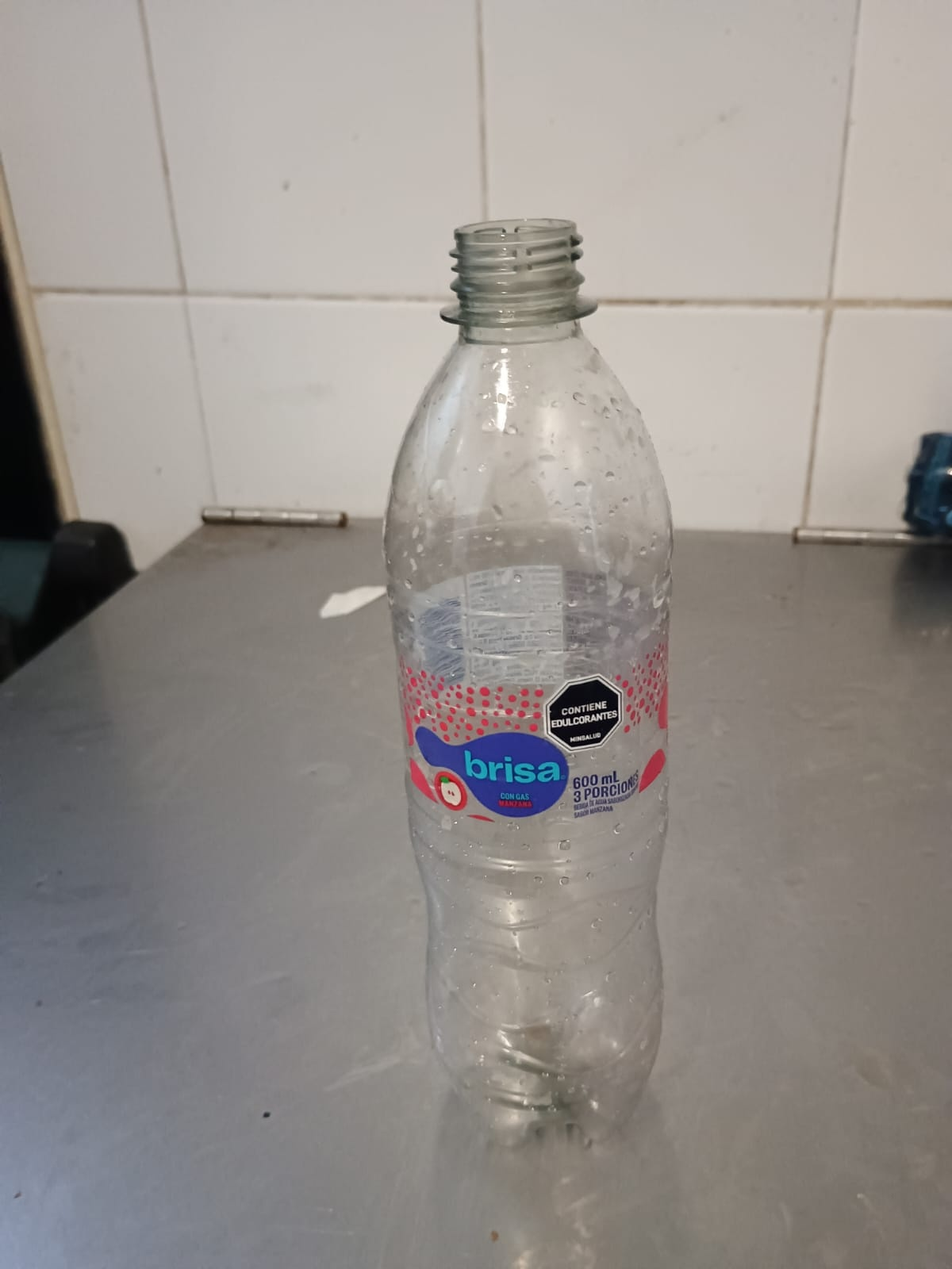Plastico: (388, 223, 678, 1140)
